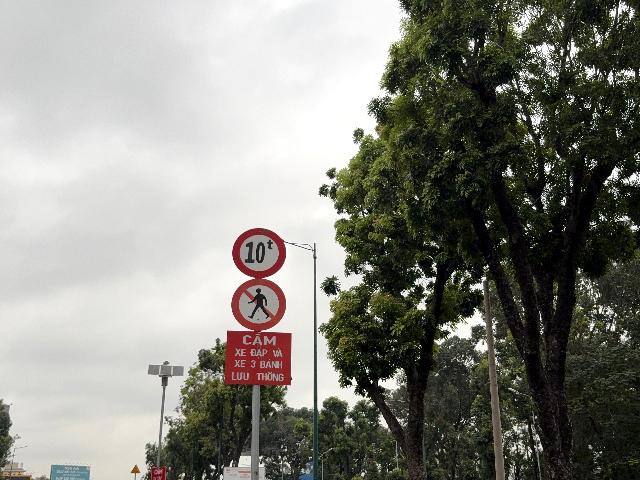cam-nguoi-di-bo: (231, 278, 286, 331)
han-che-trong-luong-xe: (232, 228, 286, 278)
